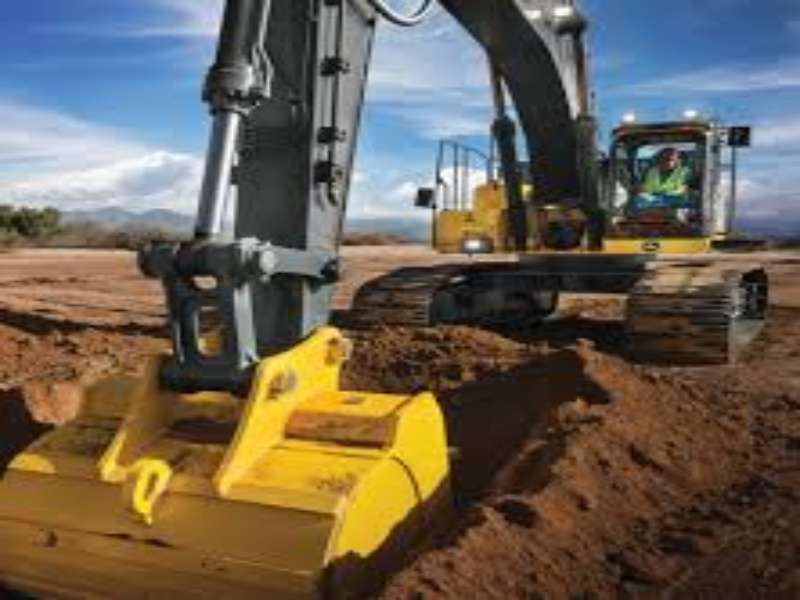wajueji: (358, 90, 800, 375)
